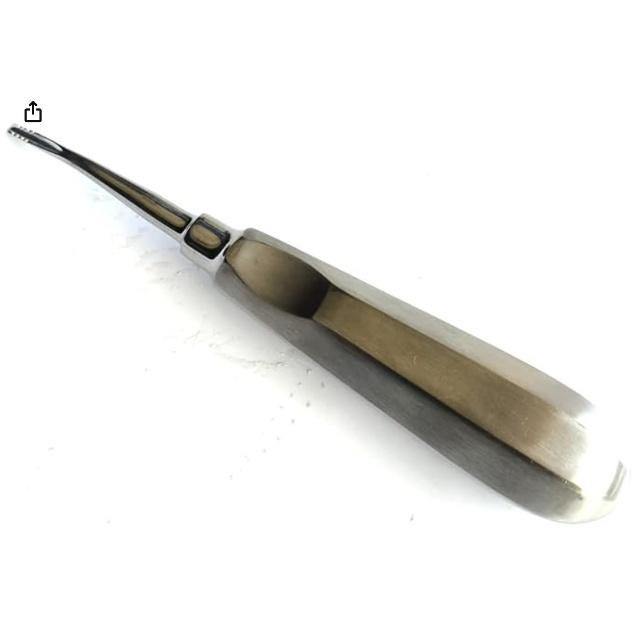botador: (9, 125, 636, 530)
